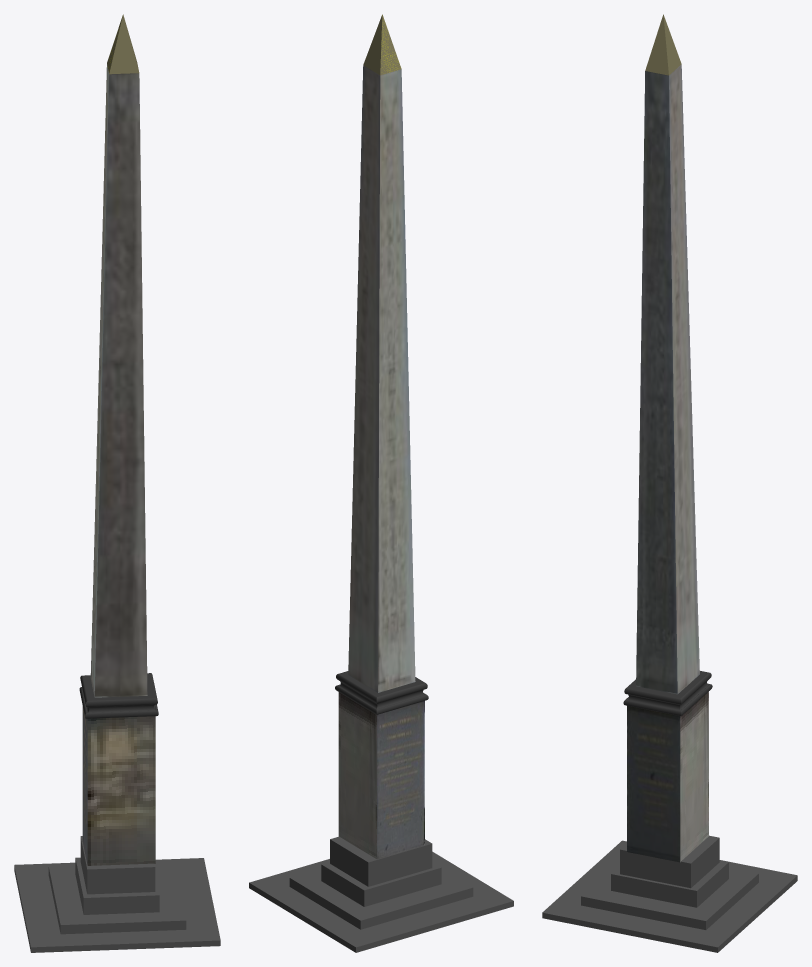
The picture shows the model from 3 angles, left to right: view 1: azimuth 30°, elevation 25°; view 2: azimuth 150°, elevation 25°; view 3: azimuth 270°, elevation 25°; orthographic projection.
Parts seen in each view (by area): view 1: Composant_1 (×6), Composant_2 (×4); view 2: Composant_1 (×7), Composant_2 (×4); view 3: Composant_1 (×6), Composant_2 (×4).
Part boxes in pixels (left/top/right/bottom): Composant_1 (×6): left=79, top=14, right=158, bottom=865; Composant_2 (×4): left=14, top=836, right=220, bottom=952; Composant_1 (×7): left=335, top=14, right=428, bottom=859; Composant_2 (×4): left=249, top=836, right=513, bottom=952; Composant_1 (×6): left=624, top=14, right=712, bottom=862; Composant_2 (×4): left=542, top=835, right=797, bottom=952.
Bounding box in the file's own units: 812 × 821 × 3143.
Materials: 13 (9 with a texture image).
